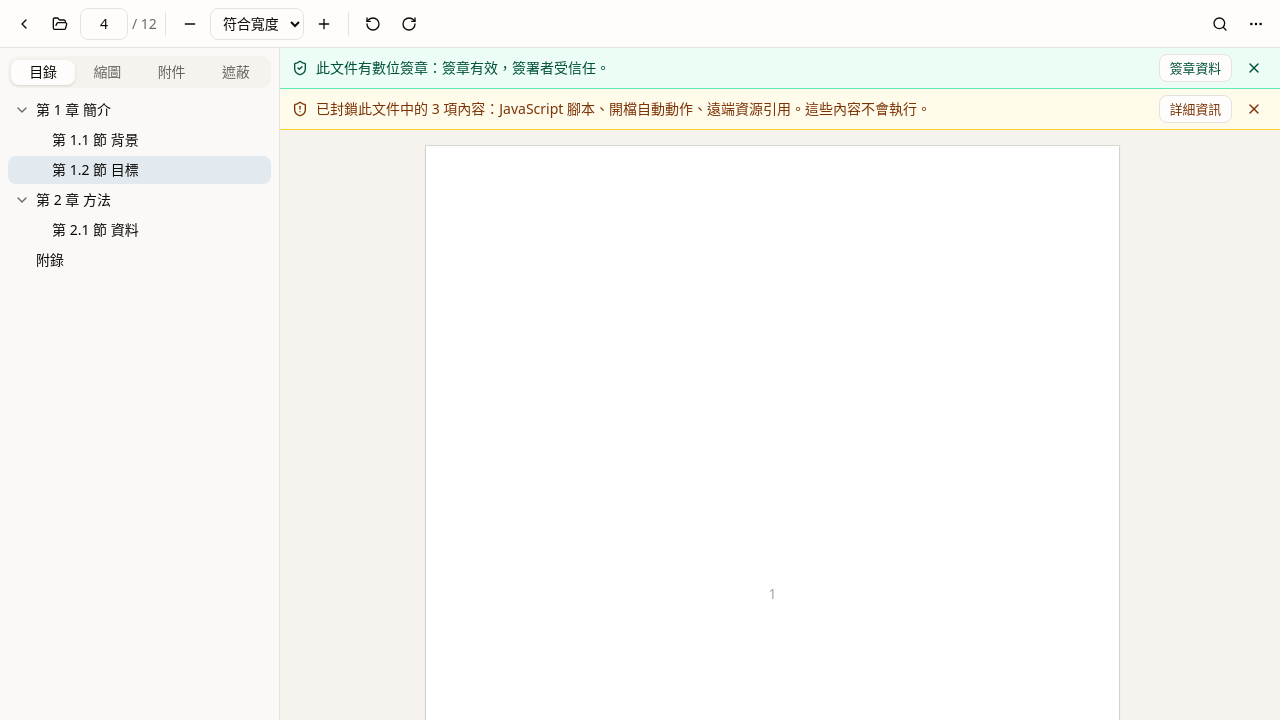
Test: SanitizeDialog (B3-15) › disables menu item when document is signed
Click the button named "更多": (1256, 24) [1240, 8, 1272, 40]
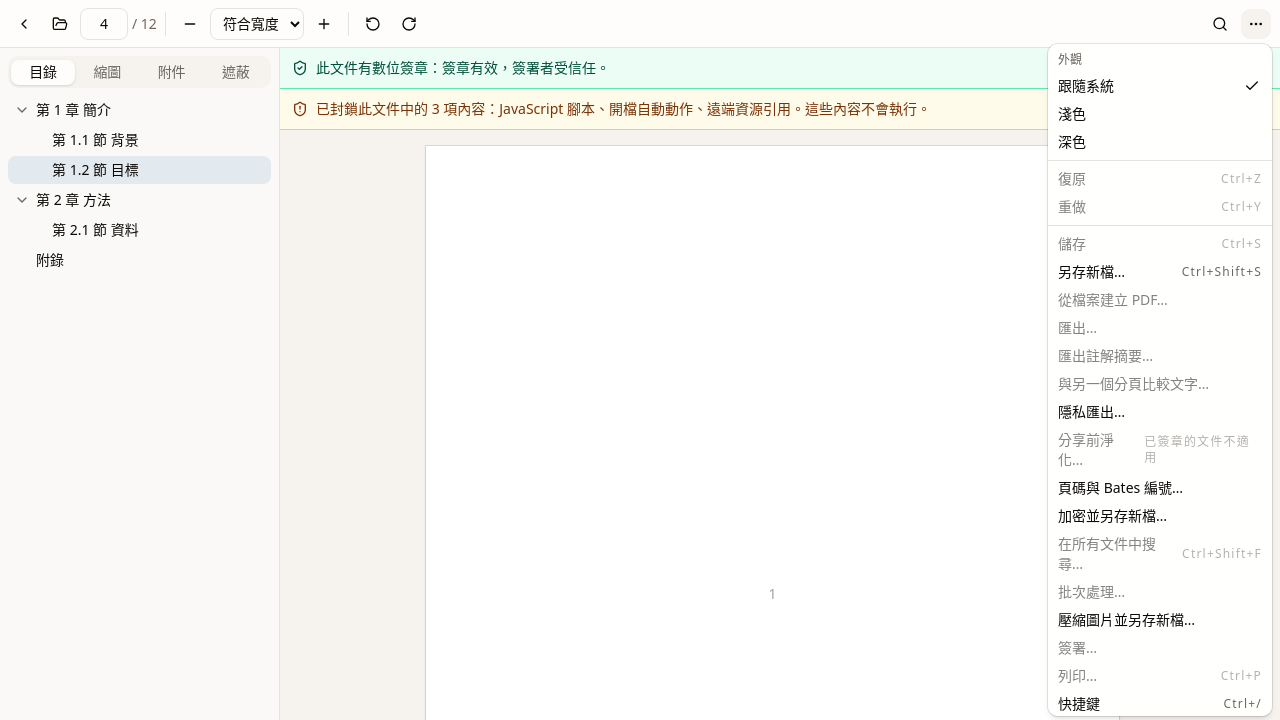
Now the menu item "分享前淨化… 已簽章的文件不適用" is shown, box [1052, 426, 1268, 474]
